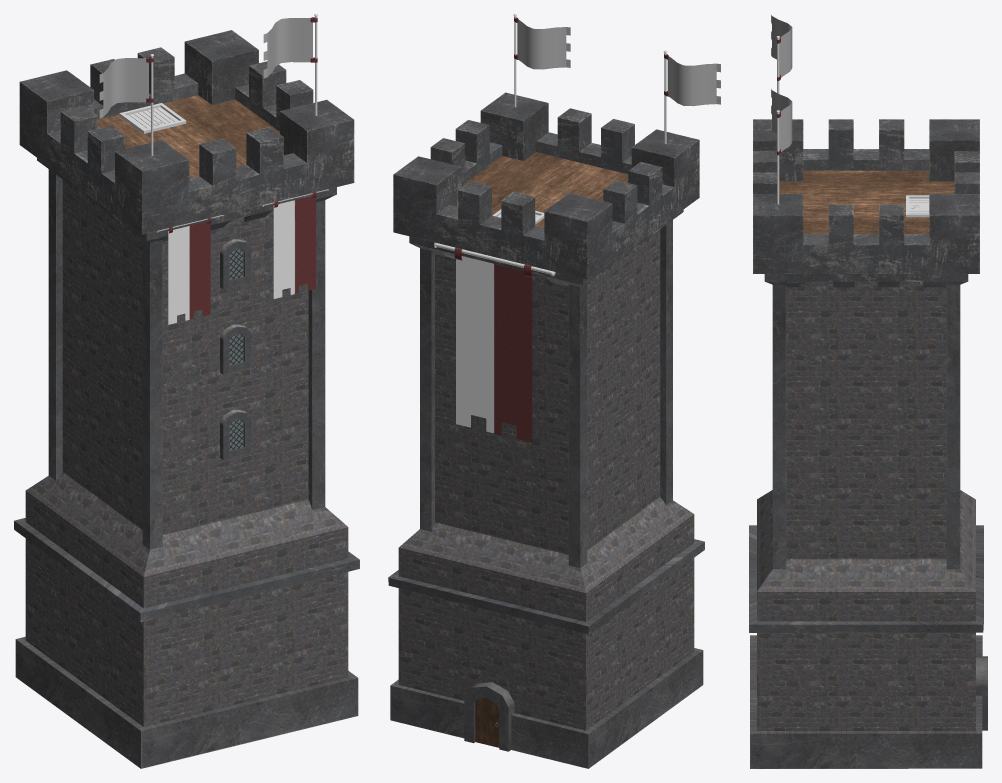
File: wall_tower_2.fbx
3 renders of one model, left to right at view 1: azimuth 30°, elevation 25°; view 2: azimuth 150°, elevation 25°; view 3: azimuth 270°, elevation 25°, orthographic. The views are drawn at different scales.
Visible parts, largest first — view 1: Muralla3.055; view 2: Muralla3.055; view 3: Muralla3.055.
Boxes of the visible parts, x1,y1,x2,y2 form: Muralla3.055: (14, 14, 359, 768); Muralla3.055: (388, 14, 720, 768); Muralla3.055: (749, 15, 987, 768).
Size of the model in its own units: 183 by 490 by 164.
Materials: 7 (5 with a texture image).
